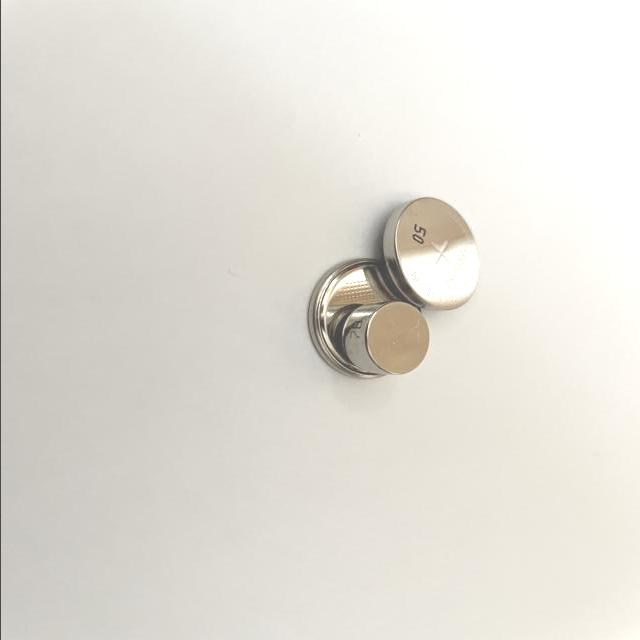COIN: (302, 256, 422, 382), (376, 196, 481, 311), (338, 300, 431, 378)
